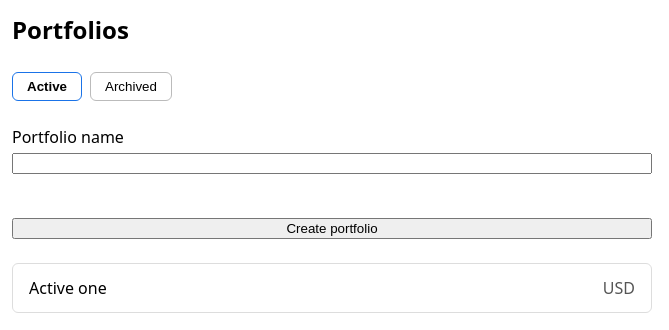
it: PortfoliosPage › fetches and shows the archived list when Archived is selected
Expected: the text "Active one" is shown, [29,276,107,300]
Step 1. Click the button "Archived" → click(131, 86), box [90,72,172,101]
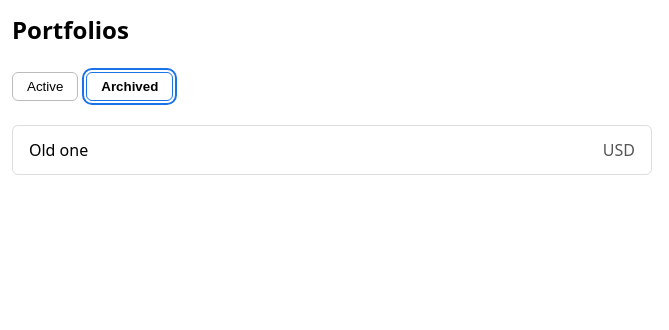
Expected: the text "Old one" is shown, [29,138,88,162]
Expected: the link "Active one" is gone
